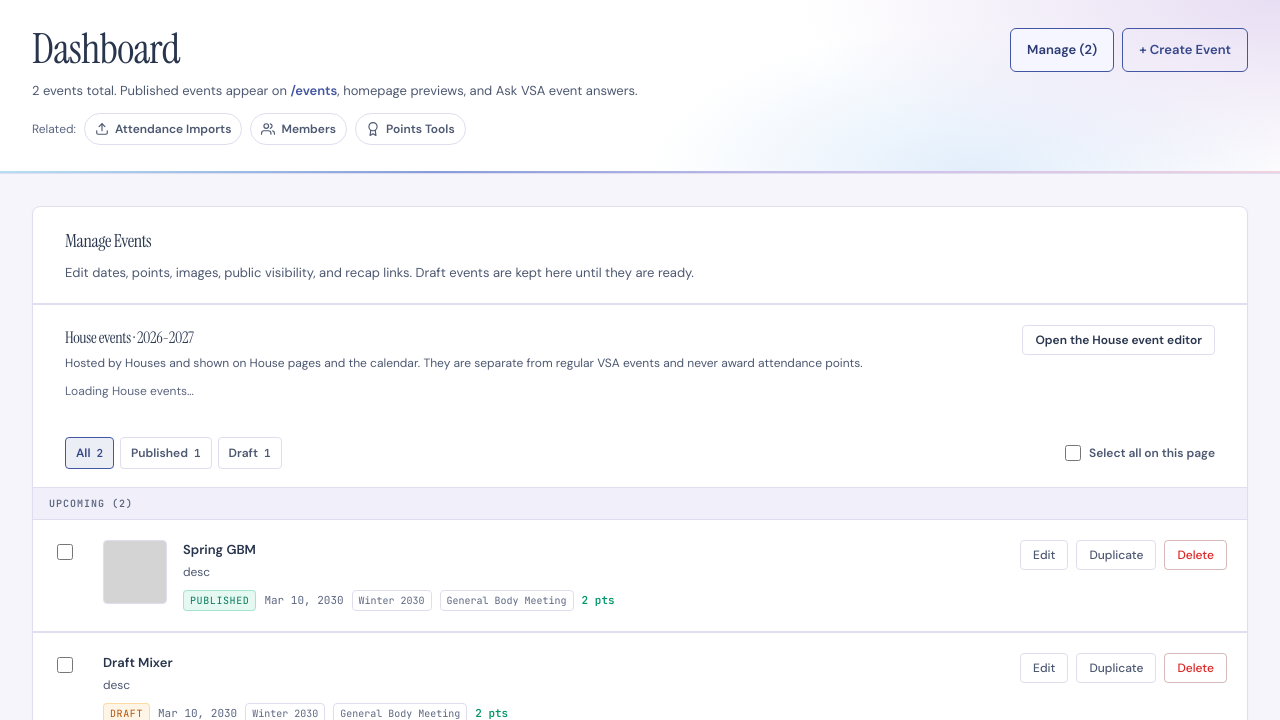
Test case: delete event › needs the event name typed, and lists what cascades (including image and thumbnail), before deleting
Click the button "Manage (2)".
click(1062, 50)  # box x1=1010 y1=28 x2=1114 y2=72
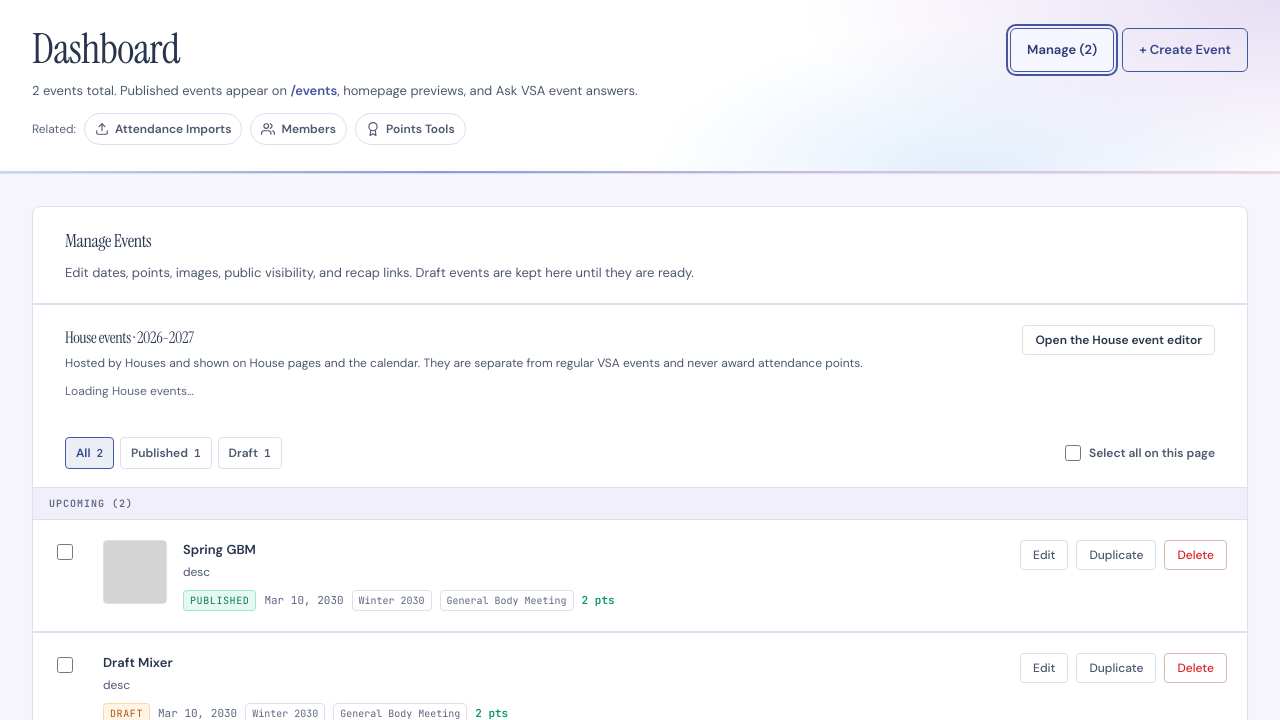
Click the button "Delete" in the row of "Spring GBM".
click(1196, 555)  # box x1=1164 y1=540 x2=1227 y2=570
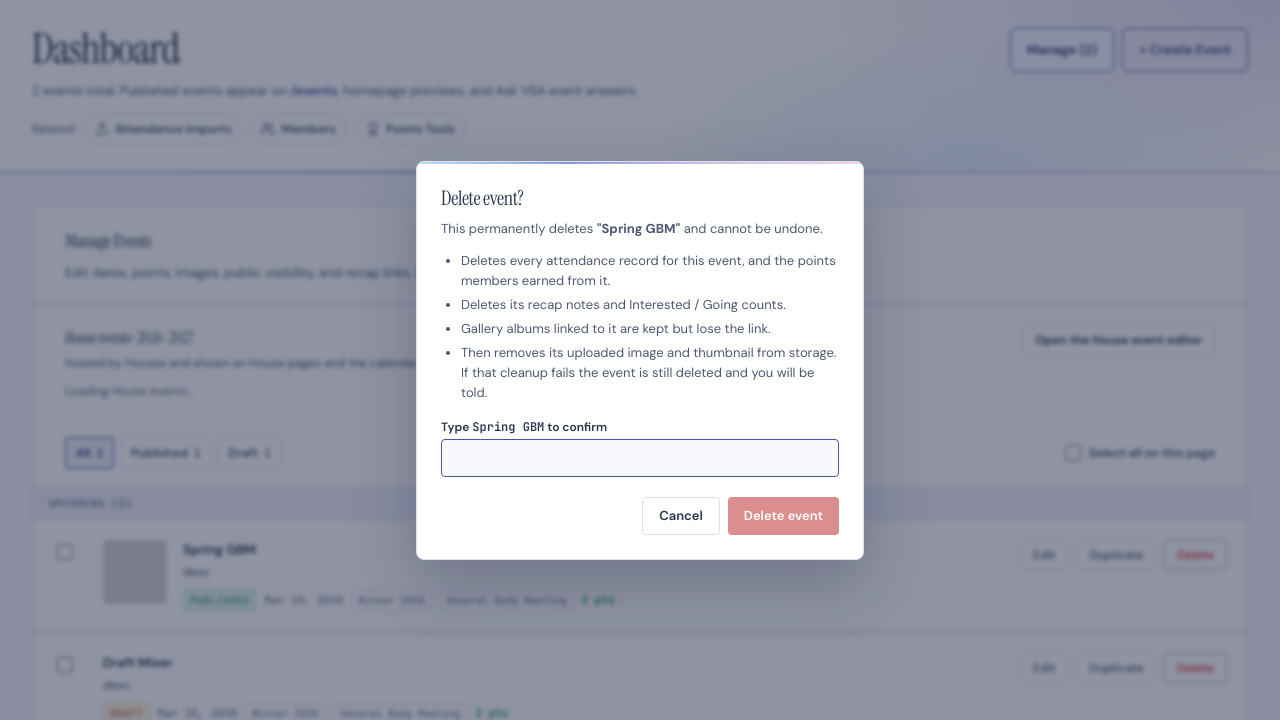
Check: the list item "every attendance record" is shown, box x1=461 y1=252 x2=836 y2=288
Check: the list item "uploaded image and thumbnail from storage" is shown, box x1=461 y1=344 x2=836 y2=400
Check: the button "Delete event" is disabled, box x1=728 y1=496 x2=839 y2=534
Type "Spring GBM" into the field.
click(640, 458); type("Spring GBM")  # box x1=441 y1=438 x2=839 y2=476
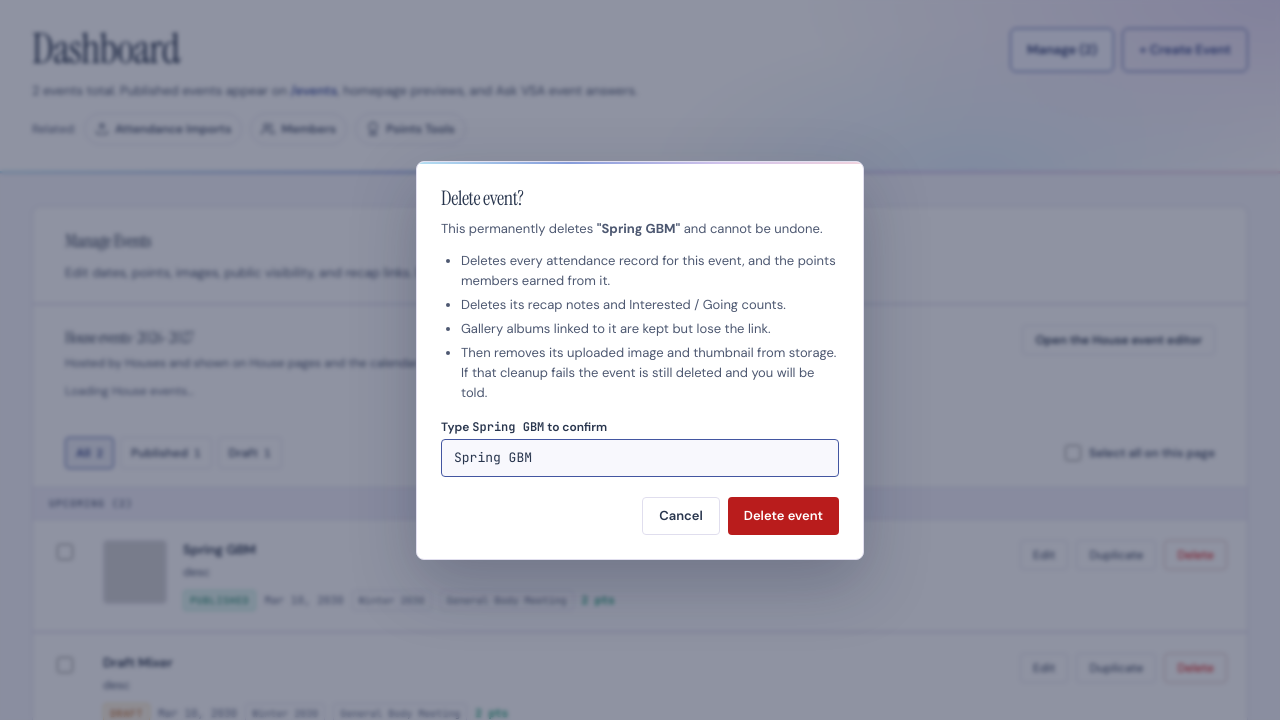
Check: the button "Delete event" is enabled, box x1=728 y1=496 x2=839 y2=534
